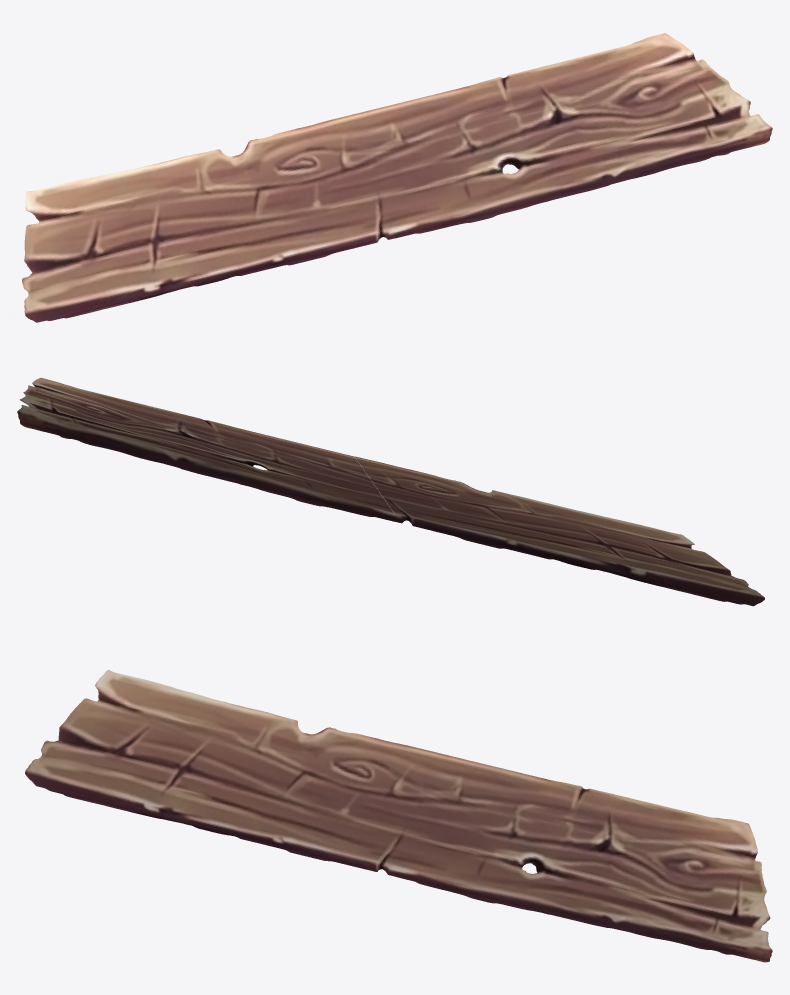
The model's file is Board.FBX.
3 views of the same model, one above another, from view 1: azimuth 30°, elevation 25°; view 2: azimuth 150°, elevation 25°; view 3: azimuth 330°, elevation 25° (orthographic).
Parts seen in each view (by area): view 1: Board; view 2: Board; view 3: Board.
Boxes of the visible parts, x1=… form: Board: x1=22, y1=33, x2=772, y2=322; Board: x1=17, y1=377, x2=764, y2=606; Board: x1=25, y1=669, x2=772, y2=962.
Bounding box in the file's own units: 960 × 103 × 146.
